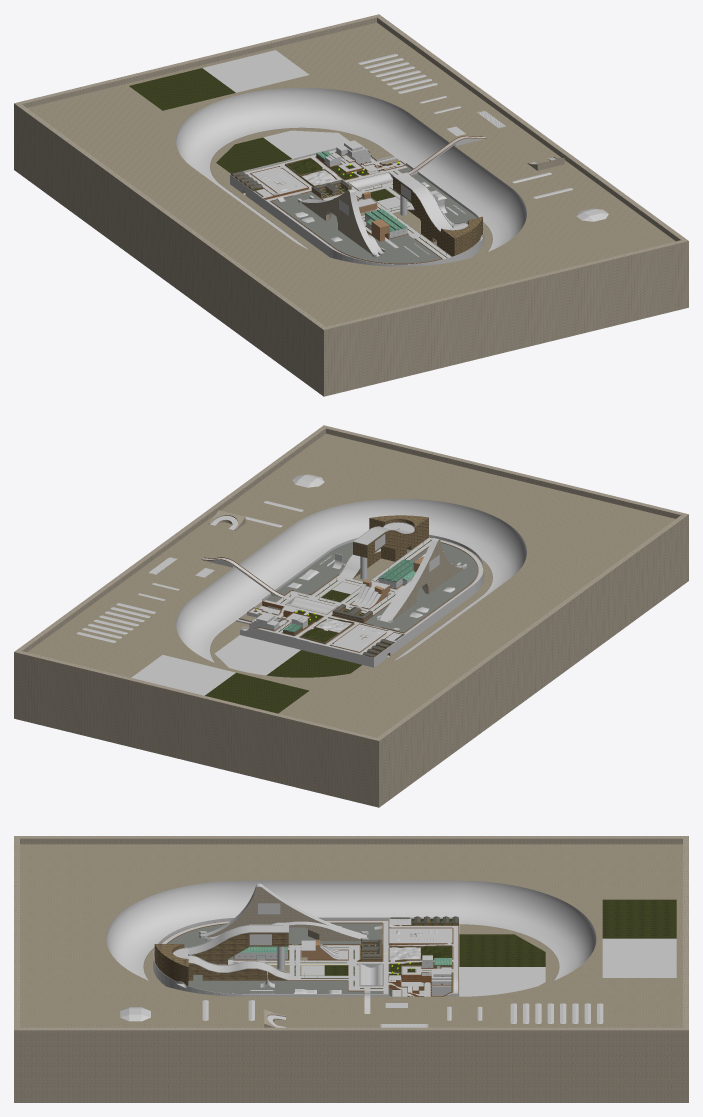
Rendered from Novocenario.fbx.
3 views of the same model, one above another, from view 1: azimuth 30°, elevation 25°; view 2: azimuth 150°, elevation 25°; view 3: azimuth 270°, elevation 25° (orthographic). The views are drawn at different scales.
Parts seen in each view (by area): view 1: ground_4, wall_6, ground_6, ground_2, ground_1, ground_3, wall_7, wall_5, sidewalk, wall_4, ground_5, wall_3 (+1 smaller); view 2: ground_4, wall_6, ground_6, ground_1, ground_2, wall_7, ground_3, wall_5, sidewalk, wall_4, ground_5, wall_3 (+2 smaller); view 3: ground_4, wall_6, ground_6, ground_2, ground_1, wall_5, ground_3, wall_7, sidewalk, wall_4, ground_5, wall_3 (+5 smaller).
Boxes of the visible parts, left/top/right/bottom form: ground_4: left=27, top=22, right=675, bottom=326; wall_6: left=14, top=14, right=688, bottom=396; ground_6: left=176, top=54, right=608, bottom=259; ground_2: left=129, top=68, right=447, bottom=257; ground_1: left=202, top=50, right=400, bottom=208; ground_3: left=271, top=167, right=483, bottom=263; wall_7: left=230, top=144, right=484, bottom=266; wall_5: left=231, top=154, right=482, bottom=256; sidewalk: left=210, top=127, right=492, bottom=262; wall_4: left=243, top=135, right=486, bottom=264; ground_5: left=251, top=164, right=378, bottom=206; wall_3: left=325, top=140, right=407, bottom=238; ground_4: left=27, top=433, right=675, bottom=737; wall_6: left=14, top=425, right=688, bottom=807; ground_6: left=76, top=474, right=526, bottom=662; ground_1: left=131, top=582, right=404, bottom=695; ground_2: left=205, top=540, right=431, bottom=713; wall_7: left=236, top=534, right=484, bottom=667; ground_3: left=265, top=542, right=477, bottom=632; wall_5: left=277, top=515, right=428, bottom=657; sidewalk: left=210, top=537, right=492, bottom=663; wall_4: left=201, top=542, right=477, bottom=655; ground_5: left=277, top=580, right=388, bottom=651; wall_3: left=249, top=570, right=413, bottom=630; ground_4: left=20, top=844, right=682, bottom=1027; wall_6: left=14, top=836, right=688, bottom=1102; ground_6: left=106, top=880, right=603, bottom=1027; ground_2: left=233, top=899, right=676, bottom=996; ground_1: left=301, top=919, right=676, bottom=996; wall_5: left=154, top=922, right=458, bottom=991; ground_3: left=168, top=923, right=382, bottom=993; wall_7: left=153, top=917, right=459, bottom=996; sidewalk: left=143, top=920, right=559, bottom=996; wall_4: left=167, top=919, right=458, bottom=1013; ground_5: left=302, top=928, right=452, bottom=990; wall_3: left=234, top=952, right=451, bottom=995.
Bounding box in the file's own units: 149000 × 35125 × 219000.
